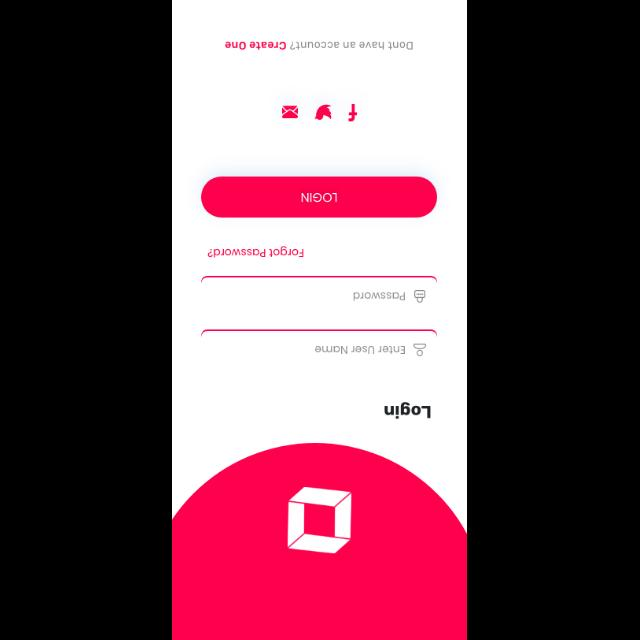icon: (316, 104, 332, 120), (282, 105, 298, 118), (348, 104, 358, 122), (414, 344, 426, 356), (414, 290, 426, 302)
image: (288, 487, 352, 553)
input: (202, 328, 438, 356), (201, 276, 437, 302)
text: (208, 245, 304, 257), (291, 41, 414, 50), (384, 402, 432, 418), (315, 346, 405, 354), (226, 41, 286, 50), (354, 292, 406, 300)
textbutton: (201, 176, 437, 218)
